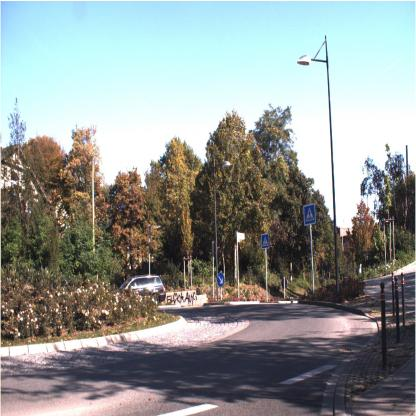keep right: (216, 272, 225, 286)
